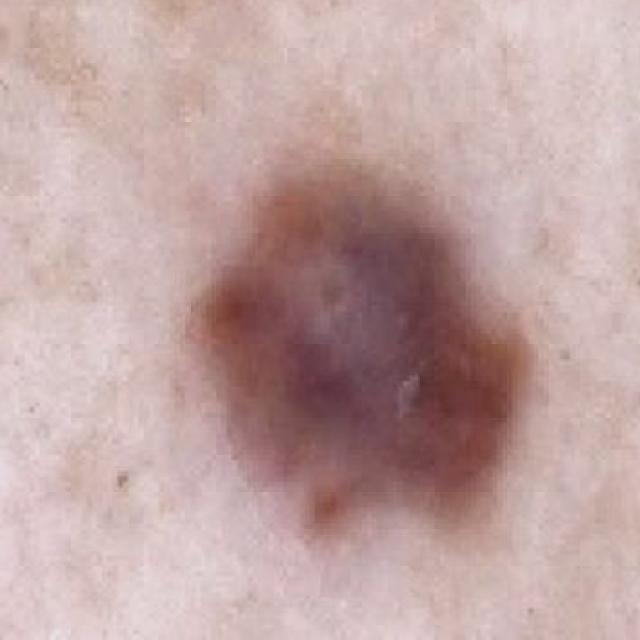MEL: (76, 31, 640, 640)
